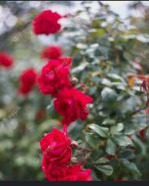RedRose: (36, 54, 78, 94), (35, 130, 72, 167), (30, 8, 66, 34)
